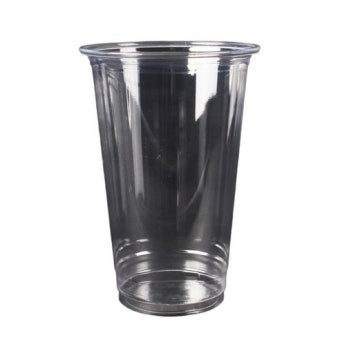plastic: (78, 39, 261, 314)
